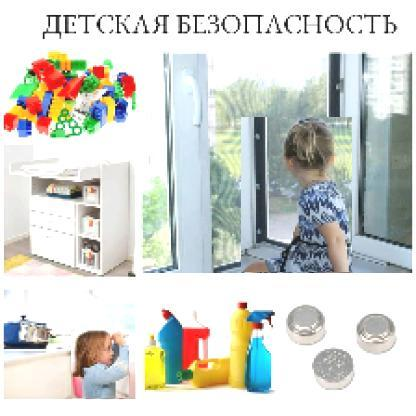child: (242, 118, 354, 274), (72, 330, 131, 400)
